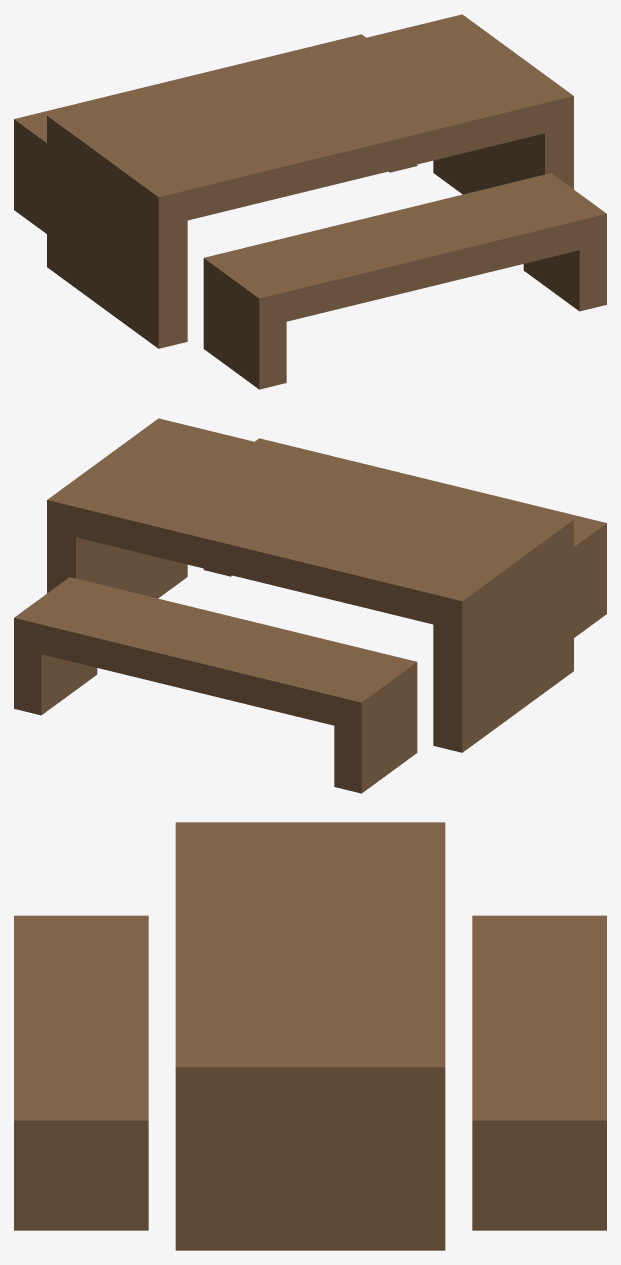
File: tafel-hal-1e2e_verdiep__jeroverv.glb
The picture shows the model from 3 angles, top to bottom: view 1: azimuth 30°, elevation 25°; view 2: azimuth 150°, elevation 25°; view 3: azimuth 270°, elevation 25°; orthographic projection. The views are drawn at different scales.
Visible parts, largest first — view 1: Cube; view 2: Cube; view 3: Cube.
Boxes of the visible parts, bbox=[...] form: Cube: bbox=[14, 14, 606, 389]; Cube: bbox=[14, 418, 606, 793]; Cube: bbox=[14, 822, 606, 1250].
Bounding box in the file's own units: 2.15 × 0.75 × 2.2.
